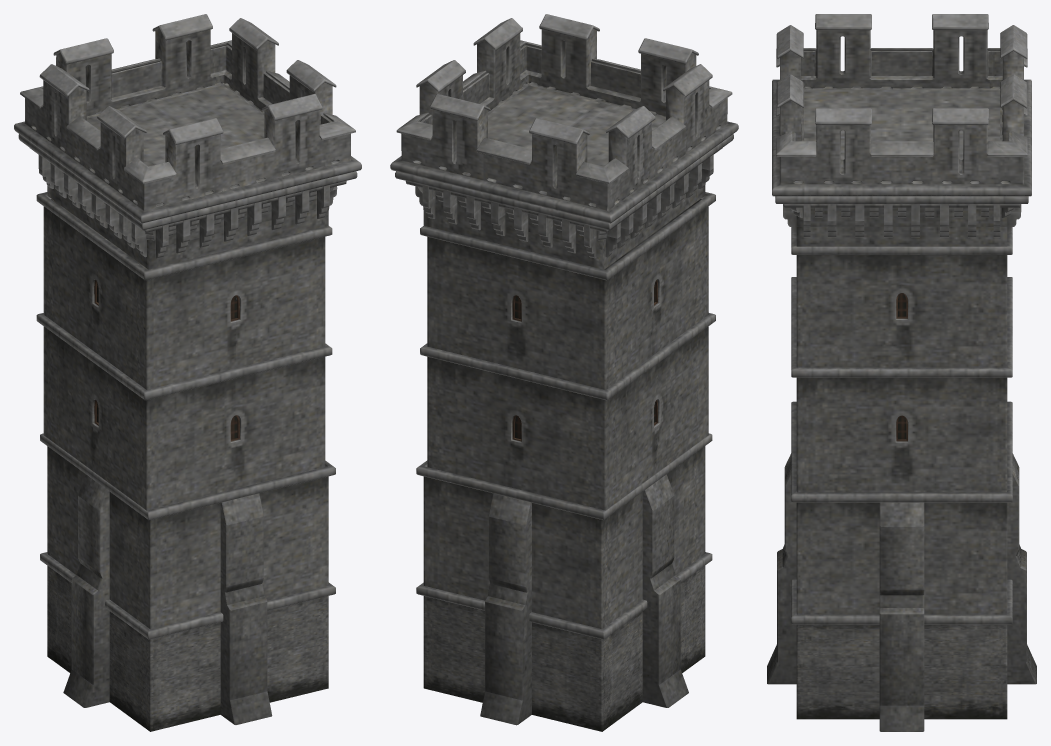
File: Castle_Tower_Square_A.fbx
3 views of the same model, side by side, from view 1: azimuth 30°, elevation 25°; view 2: azimuth 150°, elevation 25°; view 3: azimuth 270°, elevation 25° (orthographic). The views are drawn at different scales.
Visible parts, largest first — view 1: Castle_Tower_Square_A; view 2: Castle_Tower_Square_A; view 3: Castle_Tower_Square_A.
Part boxes in pixels (box(x1,y1,x2,y2)): Castle_Tower_Square_A: box(14, 14, 361, 731); Castle_Tower_Square_A: box(390, 14, 738, 731); Castle_Tower_Square_A: box(767, 14, 1036, 731).
Size of the model in its own units: 642 by 1610 by 642.
